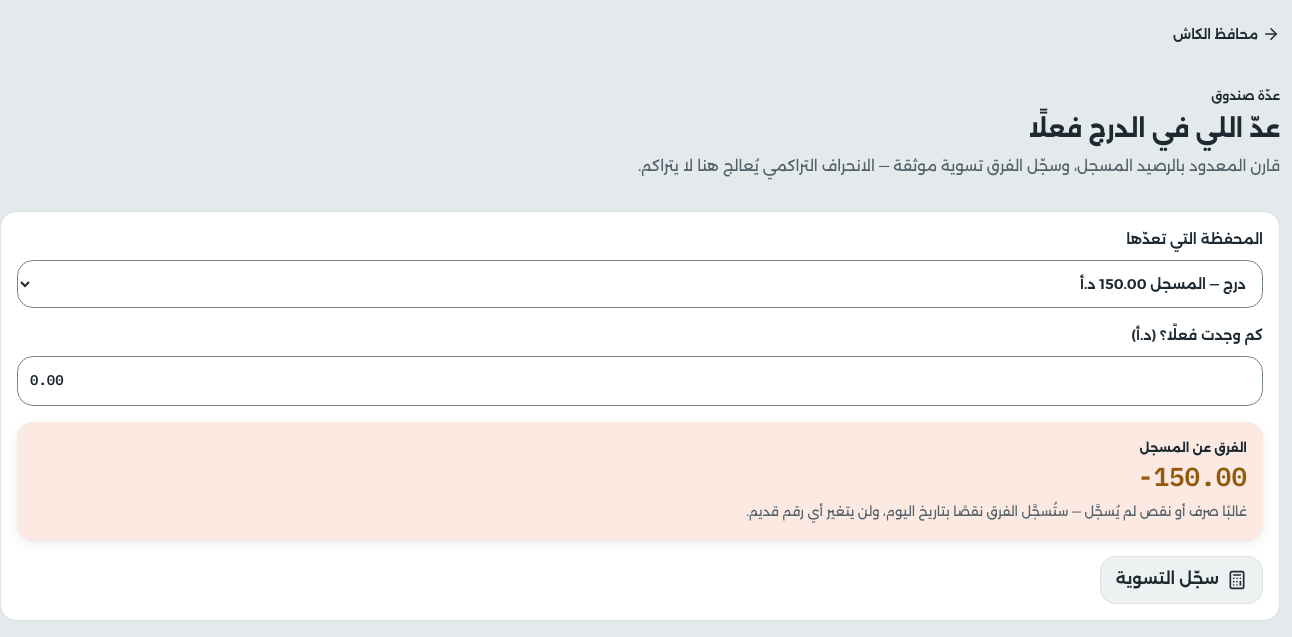
Test: CashCount journeys (Group 11-E) › records the exact difference and shows the exact new balance after settlement
This screenshot has width=1292, height=637.
Expected: the heading "عدّ اللي في الدرج فعلًا" is shown, [1028,114,1280,143]
Replace the text in the field named "المبلغ المعدود" with "152.4" at (640, 381), box [17,356,1263,406]
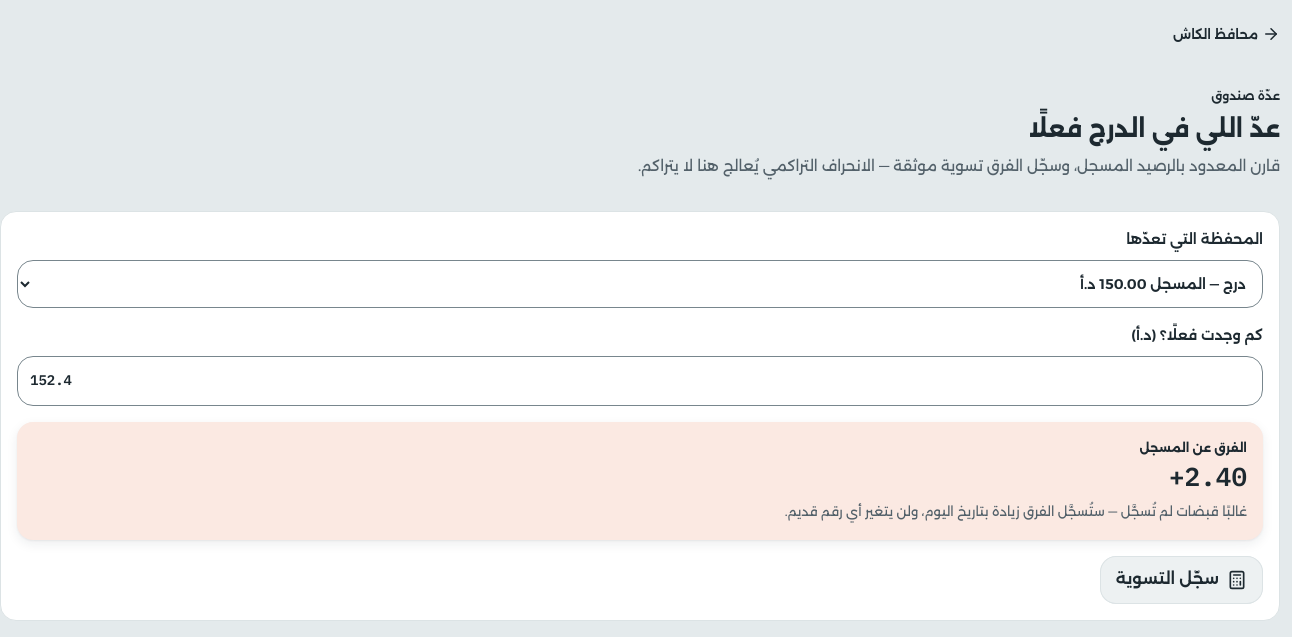
Click the button "سجّل التسوية" at (1181, 580), box [1100,556,1263,604]
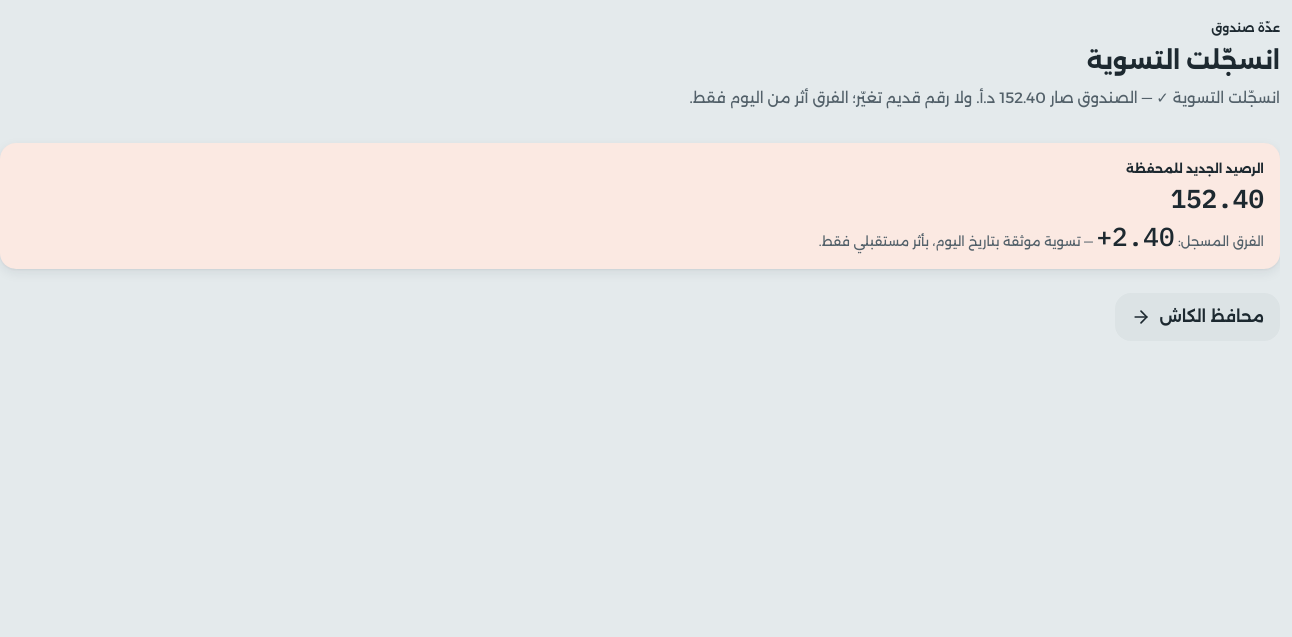
Expected: the text "+2.40" is shown, [1096,219,1174,253]
Expected: the heading "انسجّلت التسوية" is shown, [1087,46,1280,75]
Expected: the text "152.40" is shown, [1170,181,1264,215]
